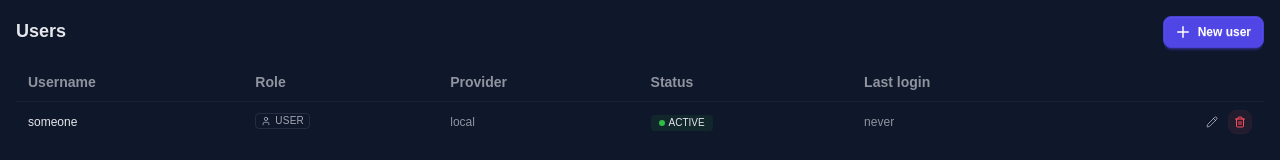
it: deleting a user asks first, then sends the request and refetches the list
Expected: the cell "someone" is shown, [16,102,243,142]
Cancelled: nothing is sent
Click the button named "Delete someone". click: click(1240, 122)
box: [1228,110,1252,134]
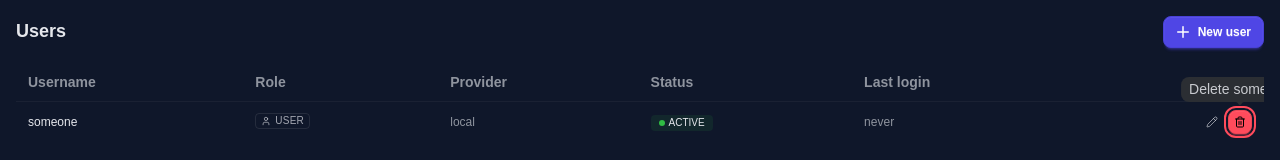
Click the button named "Delete someone". click: click(1240, 122)
box: [1228,110,1252,134]
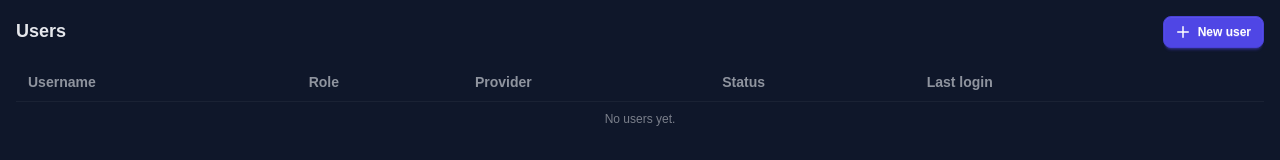
Expected: the text "No users yet." is shown, [16,102,1264,136]
